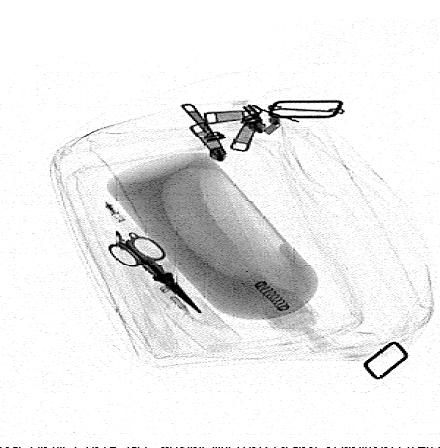Scissors: (107, 232, 204, 317)
